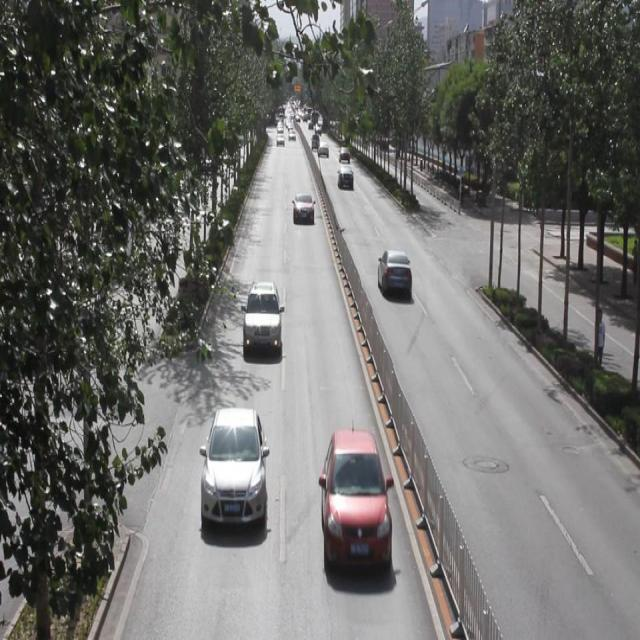car: (319, 429, 390, 564), (200, 404, 266, 524), (242, 281, 281, 353), (378, 247, 412, 299), (292, 192, 314, 224), (337, 165, 353, 188), (338, 144, 349, 162), (275, 131, 285, 148), (318, 140, 329, 154), (286, 128, 296, 142)
truck: (310, 131, 319, 150)
